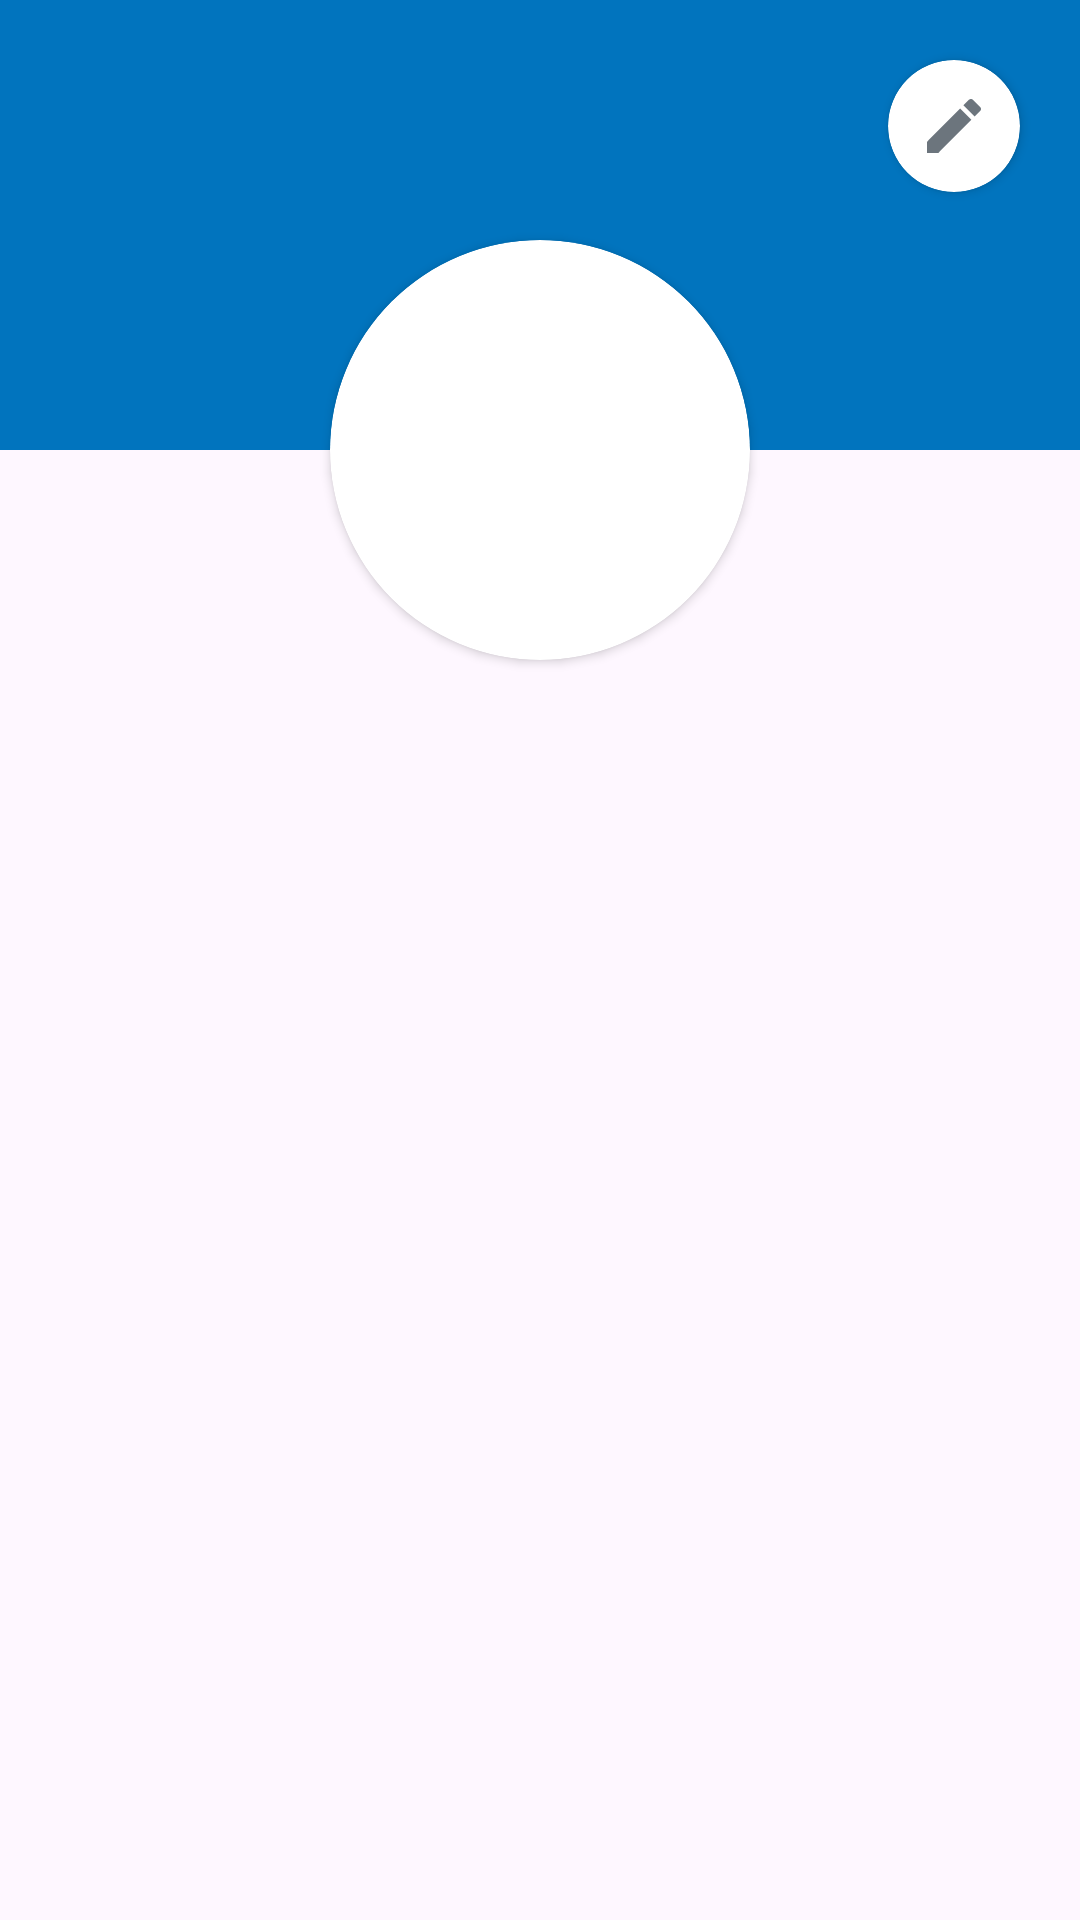

Screen size 1080w x 1920h. Icon name, then its box in pixels as (x1, y1, x2, y2):
edit: (927, 99, 981, 153)
